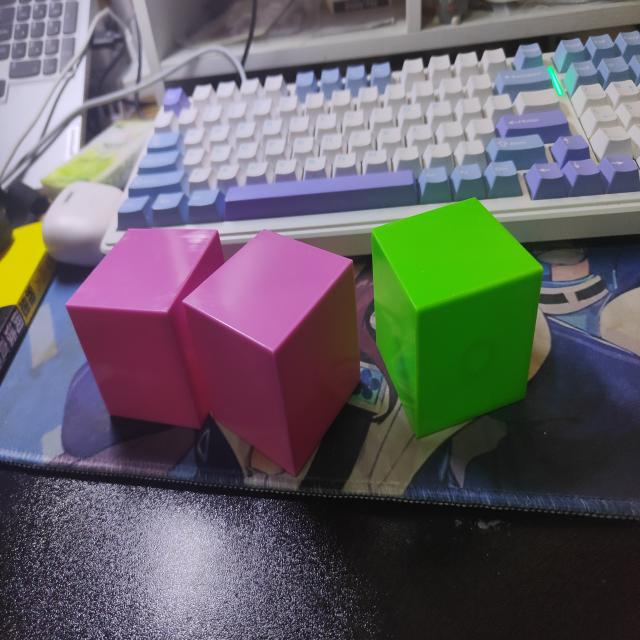green: (369, 200, 544, 443)
pink: (180, 229, 361, 473), (64, 225, 227, 430)
